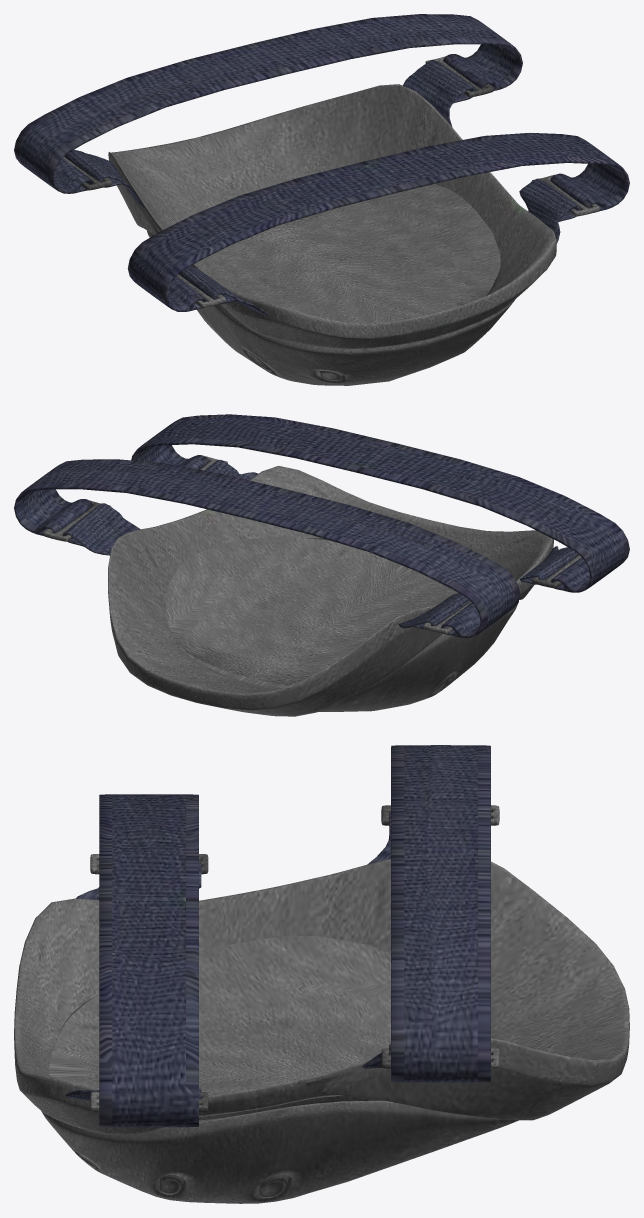
File: knee-guards.glb
3 renders of one model, top to bottom at view 1: azimuth 30°, elevation 25°; view 2: azimuth 150°, elevation 25°; view 3: azimuth 270°, elevation 25°, orthographic. The views are drawn at different scales.
Visible parts, largest first — view 1: Object_2; view 2: Object_2; view 3: Object_2.
Part boxes in pixels (left/top/right/bottom): Object_2: left=14, top=14, right=629, bottom=385; Object_2: left=14, top=414, right=629, bottom=716; Object_2: left=14, top=745, right=629, bottom=1203.
Size of the model in its own units: 23.76 by 11.89 by 20.61.
1 material, 1 textured.
